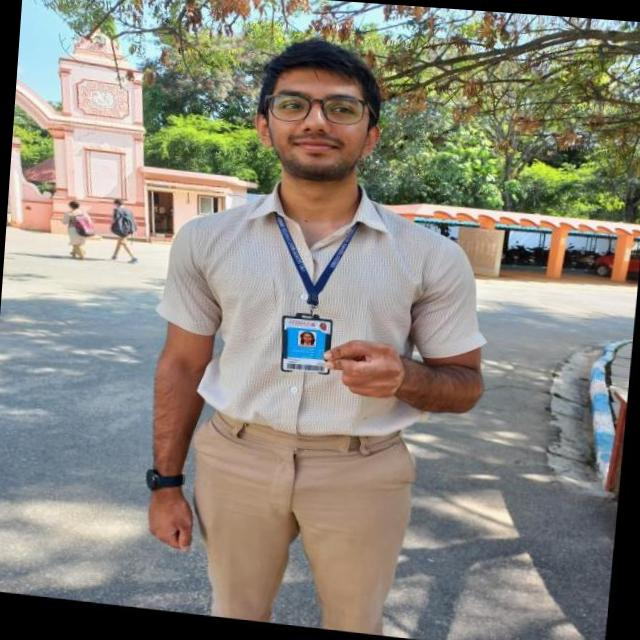id_card: (254, 218, 368, 381)
